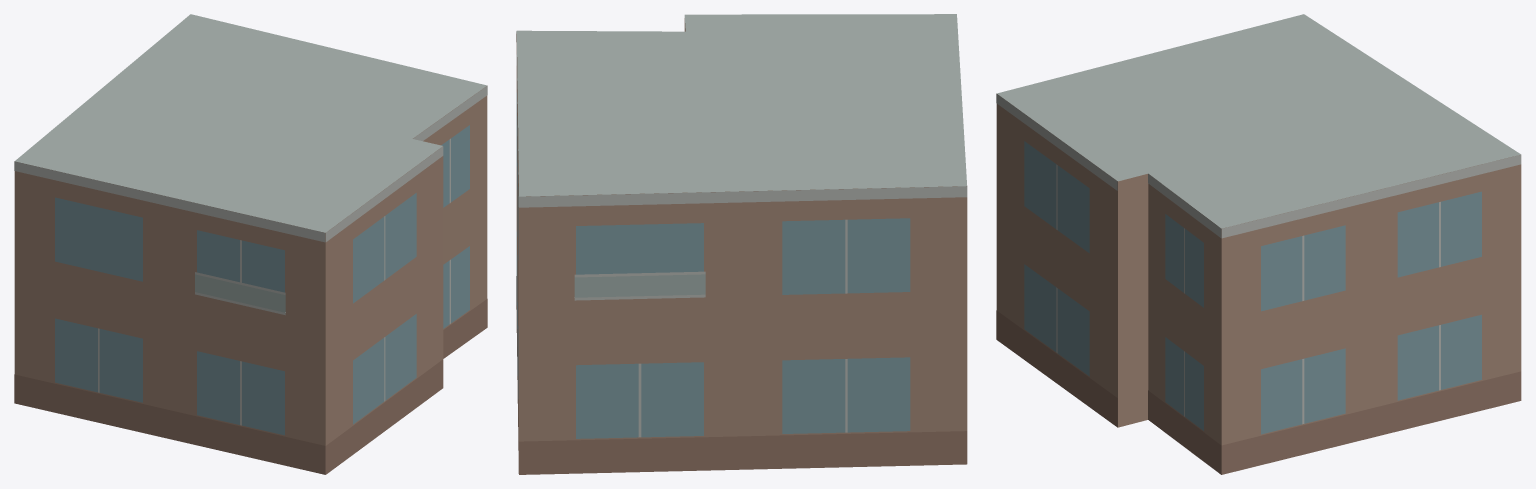
File: survey-upis-32598530.glb
The picture shows the model from 3 angles, left to right: view 1: azimuth 30°, elevation 25°; view 2: azimuth 150°, elevation 25°; view 3: azimuth 270°, elevation 25°; orthographic projection. The views are drawn at different scales.
Parts seen in each view (by area): view 1: survey-upis-32598530.tmp; view 2: survey-upis-32598530.tmp; view 3: survey-upis-32598530.tmp.
Boxes of the visible parts, box(x1,y1,x2,y2) form: survey-upis-32598530.tmp: box(14, 14, 487, 474); survey-upis-32598530.tmp: box(516, 14, 967, 474); survey-upis-32598530.tmp: box(996, 14, 1521, 474).
Bounding box in the file's own units: 11.41 × 6.1 × 11.79.
